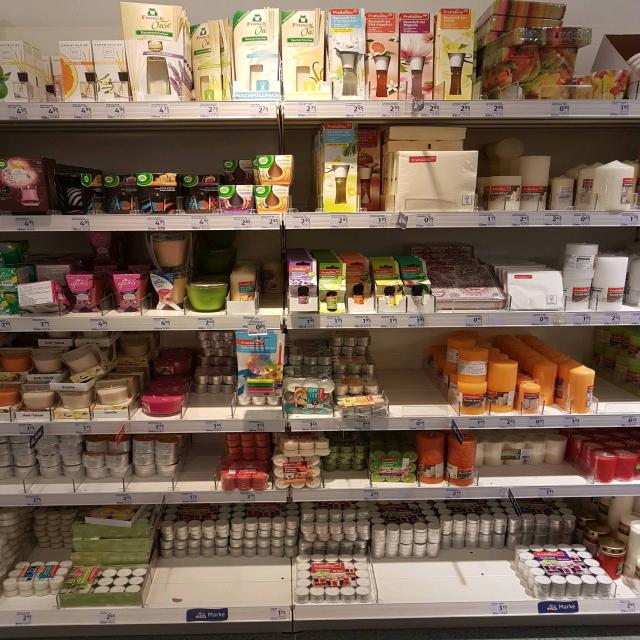empty: (385, 344, 451, 416), (590, 340, 640, 417), (174, 432, 225, 488)
